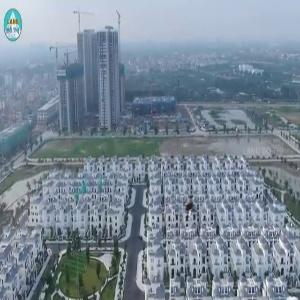drone: (164, 171, 237, 244)
